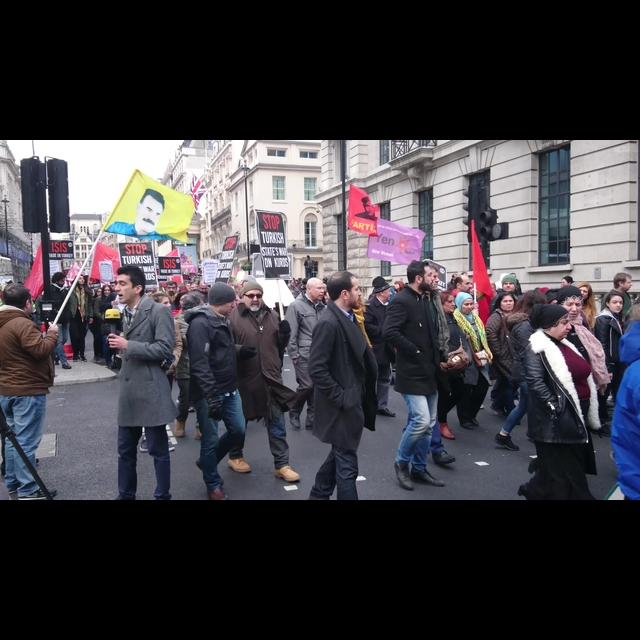APO: (130, 188, 168, 231)
